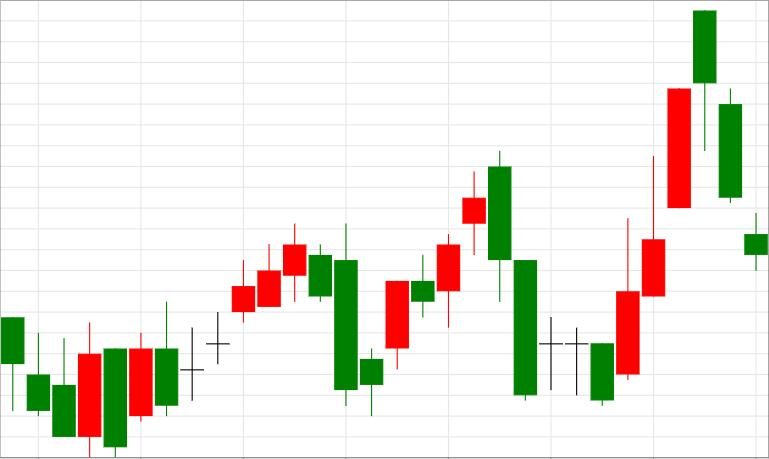bearish_engulfing_fall: (361, 152, 511, 416)
three_white_soldiers_rise: (488, 88, 691, 405)
